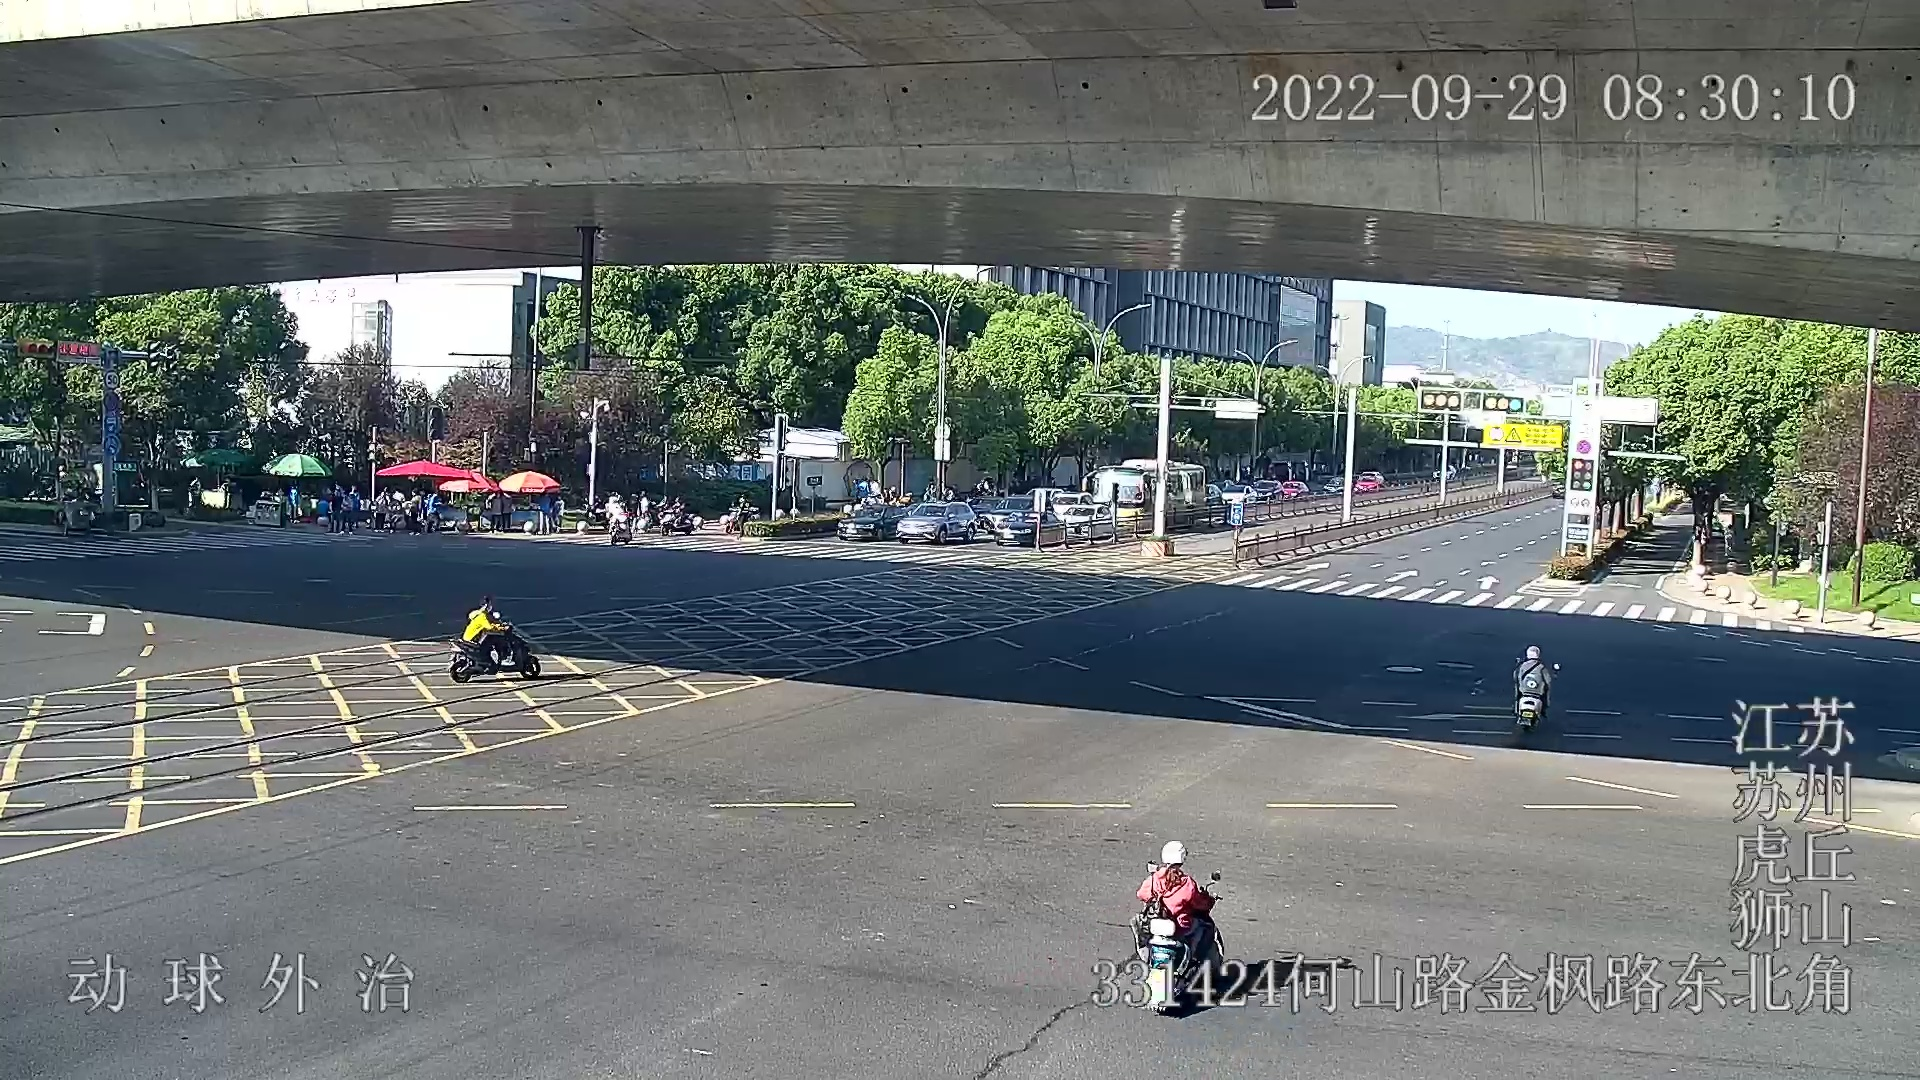头肩: (1149, 843, 1192, 884), (477, 593, 501, 624), (1523, 646, 1544, 665)
机动车: (1081, 460, 1207, 531), (895, 502, 978, 545), (837, 505, 902, 541), (994, 514, 1063, 543), (1064, 506, 1114, 541), (996, 495, 1052, 520), (1221, 484, 1258, 509), (1254, 479, 1284, 502)
行人: (1138, 843, 1217, 978), (464, 593, 513, 661), (1515, 645, 1552, 721)
非机动车: (1127, 839, 1226, 1013), (448, 592, 541, 680), (1510, 640, 1560, 728)
